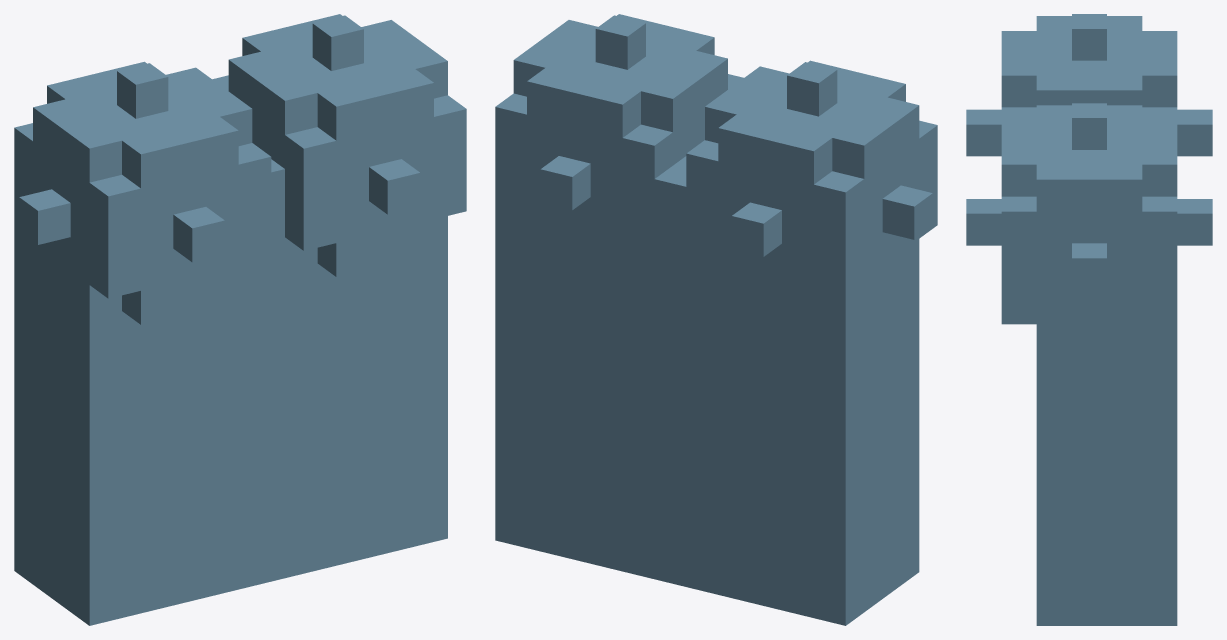
3 views of the same model, side by side, from view 1: azimuth 30°, elevation 25°; view 2: azimuth 150°, elevation 25°; view 3: azimuth 270°, elevation 25° (orthographic). The views are drawn at different scales.
Parts seen in each view (by area): view 1: Safety shield; view 2: Safety shield; view 3: Safety shield.
Boxes of the visible parts, x1=… form: Safety shield: x1=14, y1=14, x2=466, y2=625; Safety shield: x1=495, y1=14, x2=937, y2=625; Safety shield: x1=966, y1=14, x2=1212, y2=625.
Size of the model in its own units: 1.04 by 1.2 by 0.56.
